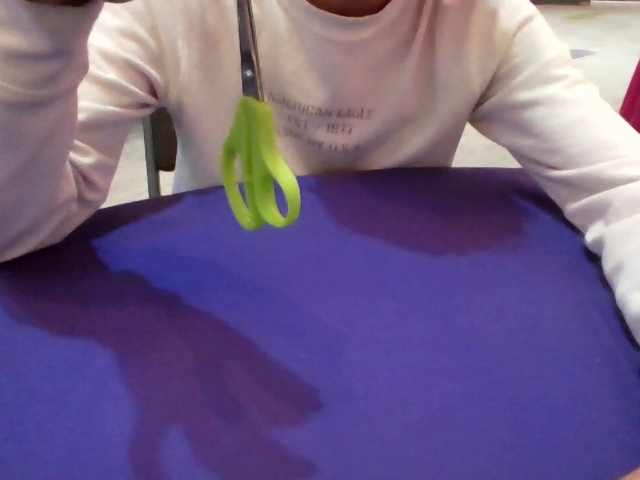tijeras: (220, 1, 304, 231)
